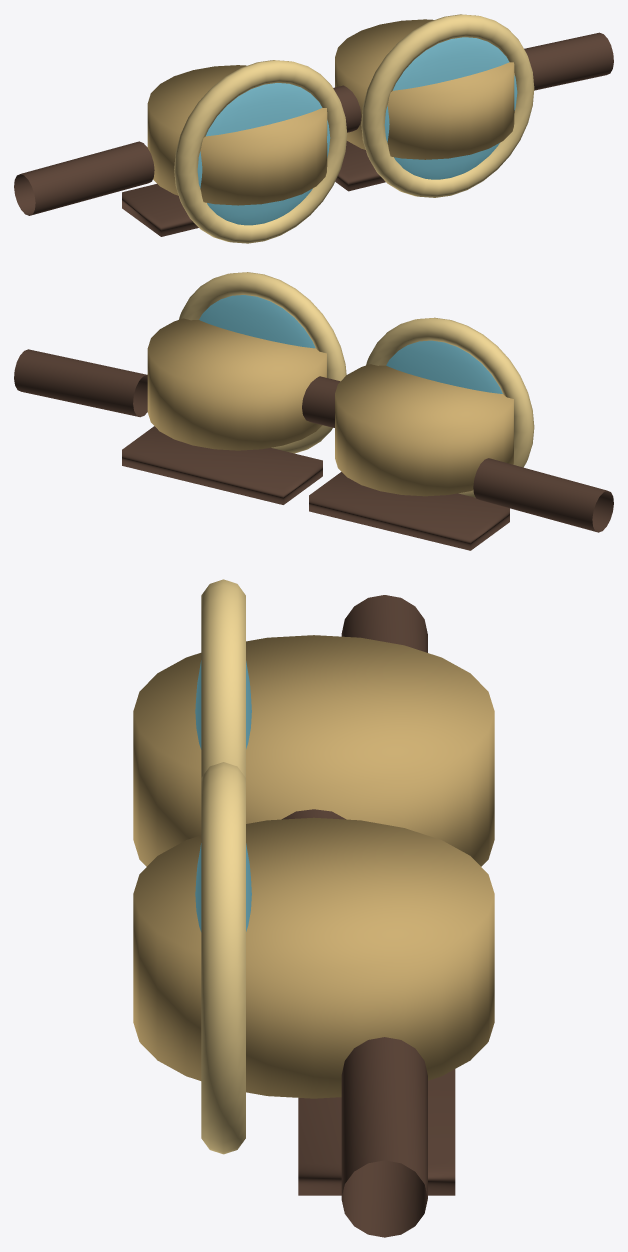
The model's file is Ender_SealedAviatorGoggles_REVIEW.glb.
3 views of the same model, one above another, from view 1: azimuth 30°, elevation 25°; view 2: azimuth 150°, elevation 25°; view 3: azimuth 270°, elevation 25° (orthographic). The views are drawn at different scales.
Visible parts, largest first — view 1: SealedAviatorGoggles; view 2: SealedAviatorGoggles; view 3: SealedAviatorGoggles.
Boxes of the visible parts, x1,y1,x2,y2 form: SealedAviatorGoggles: (14, 14, 613, 243); SealedAviatorGoggles: (14, 272, 613, 550); SealedAviatorGoggles: (133, 579, 494, 1237).
Bounding box in the file's own units: 0.3406 × 0.1 × 0.092.
